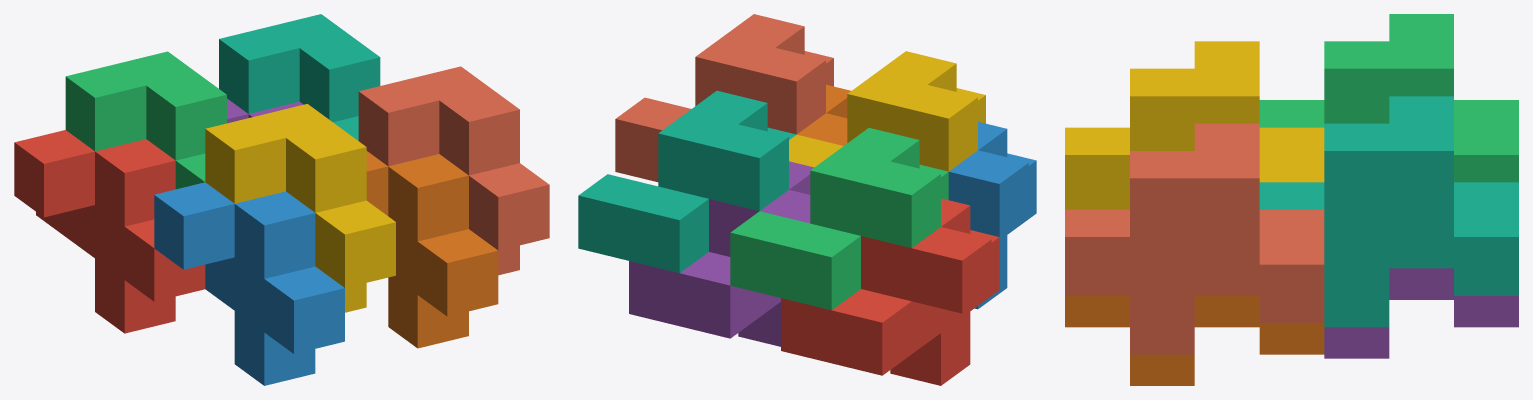
File: tiling.obj
3 renders of one model, left to right at view 1: azimuth 30°, elevation 25°; view 2: azimuth 150°, elevation 25°; view 3: azimuth 270°, elevation 25°, orthographic. The views are drawn at different scales.
Parts seen in each view (by area): view 1: copy_1_domain_2, copy_1_domain_1, copy_1_domain_4, copy_1_domain_8, copy_1_domain_6, copy_1_domain_3, copy_1_domain_7, copy_1_domain_5; view 2: copy_1_domain_1, copy_1_domain_3, copy_1_domain_7, copy_1_domain_8, copy_1_domain_5, copy_1_domain_4, copy_1_domain_2, copy_1_domain_6; view 3: copy_1_domain_8, copy_1_domain_7, copy_1_domain_4, copy_1_domain_3, copy_1_domain_6, copy_1_domain_5.
Part boxes in pixels (left/top/right/bottom): copy_1_domain_2: left=154, top=182, right=344, bottom=385; copy_1_domain_1: left=14, top=130, right=205, bottom=333; copy_1_domain_4: left=205, top=104, right=395, bottom=312; copy_1_domain_8: left=358, top=66, right=549, bottom=275; copy_1_domain_6: left=366, top=151, right=498, bottom=348; copy_1_domain_3: left=65, top=51, right=226, bottom=189; copy_1_domain_7: left=219, top=14, right=380, bottom=140; copy_1_domain_5: left=227, top=98, right=303, bottom=123; copy_1_domain_1: left=781, top=198, right=999, bottom=385; copy_1_domain_3: left=730, top=128, right=948, bottom=310; copy_1_domain_7: left=578, top=90, right=796, bottom=273; copy_1_domain_8: left=615, top=14, right=833, bottom=182; copy_1_domain_5: left=629, top=161, right=814, bottom=346; copy_1_domain_4: left=789, top=51, right=985, bottom=171; copy_1_domain_2: left=948, top=121, right=1036, bottom=309; copy_1_domain_6: left=797, top=84, right=850, bottom=145; copy_1_domain_8: left=1065, top=123, right=1324, bottom=354; copy_1_domain_7: left=1259, top=96, right=1518, bottom=327; copy_1_domain_4: left=1065, top=41, right=1324, bottom=209; copy_1_domain_3: left=1259, top=14, right=1518, bottom=182; copy_1_domain_6: left=1065, top=296, right=1324, bottom=385; copy_1_domain_5: left=1324, top=268, right=1518, bottom=358.
Size of the model in its own units: 8 by 4 by 7.
